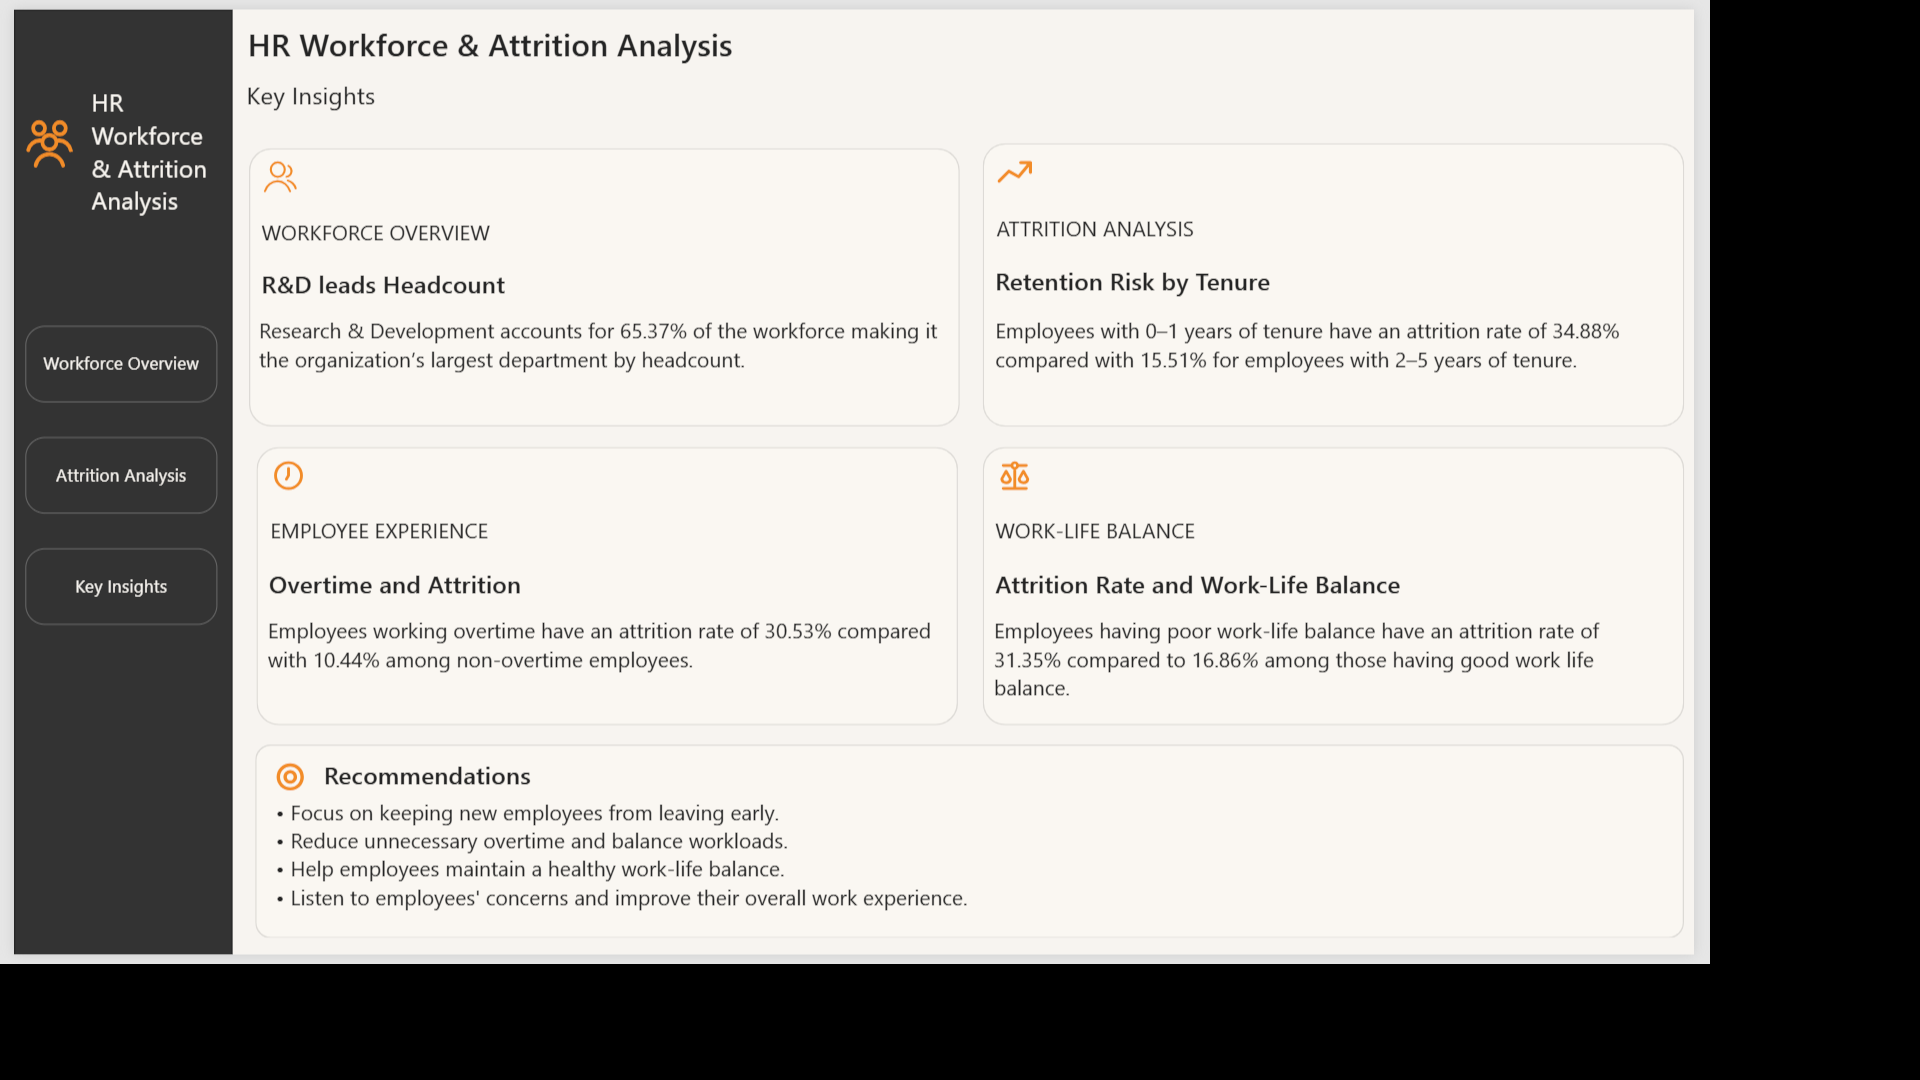

The page's visual inventory and layout, read from the dashboard file:
{"tool":"powerbi","page":{"name":"Key Insights","canvas":[1280,720],"ordinal":2},"visuals":[{"type":"shape","box":[0,0,166.6,1079.9],"z":0,"group":"g1"},{"type":"textbox","box":[177.8,10,388.9,40],"z":0},{"type":"shape","box":[738.5,102,534.5,216],"z":0,"group":"g2"},{"type":"shape","box":[178.5,106,541.5,212],"z":0,"group":"g3"},{"type":"shape","box":[185,333,534.5,212],"z":0,"group":"g4"},{"type":"shape","box":[738.5,333,534.5,212],"z":0,"group":"g5"},{"type":"textbox","box":[177.3,52.3,207,29.7],"z":1000},{"type":"textbox","box":[59,58,96.3,102.5],"z":1000,"group":"g1"},{"type":"textbox","box":[748.1,155.1,256.4,26],"z":1000,"group":"g2"},{"type":"textbox","box":[188.2,158.1,259.8,25.5],"z":1000,"group":"g3"},{"type":"textbox","box":[747.7,385,324.9,26],"z":1000,"group":"g5"},{"type":"textbox","box":[194.6,385.1,256.4,25.5],"z":1000,"group":"g4"},{"type":"group","id":"g1","title":"Group 1","box":[0,0,166.6,1079.9],"z":2000},{"type":"image","box":[9,72,37,60],"z":2000,"group":"g1"},{"type":"image","box":[738,110.6,48.8,26.6],"z":2000,"group":"g2"},{"type":"image","box":[178,114.4,49.4,26.1],"z":2000,"group":"g3"},{"type":"image","box":[184.5,341.4,48.8,26.1],"z":2000,"group":"g4"},{"type":"image","box":[738,341.4,48.8,26.1],"z":2000,"group":"g5"},{"type":"group","id":"g2","title":"Group 2","box":[738,102,535,216],"z":3000},{"type":"textbox","box":[186.8,233.4,521.2,60],"z":3000,"group":"g3"},{"type":"textbox","box":[747.7,233.4,513.3,71.3],"z":3000,"group":"g2"},{"type":"actionButton","box":[9,241,146.6,58.4],"z":3000,"group":"g1"},{"type":"textbox","box":[193.2,462,514.4,63],"z":3000,"group":"g4"},{"type":"textbox","box":[746.7,462,514.4,66],"z":3000,"group":"g5"},{"type":"textbox","box":[747.8,194.4,247,31.9],"z":4000,"group":"g2"},{"type":"textbox","box":[188.2,196.6,216.2,31.3],"z":4000,"group":"g3"},{"type":"actionButton","box":[9,325.5,146.6,58.4],"z":4000,"group":"g1"},{"type":"textbox","box":[194.2,424,222,31],"z":4000,"group":"g4"},{"type":"textbox","box":[747.7,424,350.9,31],"z":4000,"group":"g5"},{"type":"shape","box":[183.5,559.6,1088.5,147.6],"z":4000,"group":"g6"},{"type":"group","id":"g3","title":"Group 2","box":[178,106,542,212],"z":5000},{"type":"actionButton","box":[9,410,146.6,58.4],"z":5000,"group":"g1"},{"type":"image","box":[327,462,45,26.1],"z":6000},{"type":"image","box":[190.6,574.1,40.4,20.9],"z":7000,"group":"g6"},{"type":"group","id":"g4","title":"Group 2","box":[184.5,333,535,212],"z":8000},{"type":"group","id":"g5","title":"Group 2","box":[738,333,535,212],"z":9000},{"type":"textbox","box":[186.1,599.9,619.8,93.3],"z":10000,"group":"g6"},{"type":"textbox","box":[235.5,570,186.9,35.9],"z":11000,"group":"g6"},{"type":"group","id":"g6","title":"Group 3","box":[183.5,559.6,1088.5,147.6],"z":11001}]}

Visuals, with their boxes on the page's 1280x720 design canvas (x1, y1, x2, y2). These are canvas units, not pixel positions in the 1920x1080 screenshot, which may show the page scaled, cropped or inside an application window:
shape: (left=0, top=0, right=167, bottom=1080)
textbox: (left=178, top=10, right=567, bottom=50)
shape: (left=738, top=102, right=1273, bottom=318)
shape: (left=178, top=106, right=720, bottom=318)
shape: (left=185, top=333, right=720, bottom=545)
shape: (left=738, top=333, right=1273, bottom=545)
textbox: (left=177, top=52, right=384, bottom=82)
textbox: (left=59, top=58, right=155, bottom=160)
textbox: (left=748, top=155, right=1004, bottom=181)
textbox: (left=188, top=158, right=448, bottom=184)
textbox: (left=748, top=385, right=1073, bottom=411)
textbox: (left=195, top=385, right=451, bottom=411)
"Group 1" group: (left=0, top=0, right=167, bottom=1080)
image: (left=9, top=72, right=46, bottom=132)
image: (left=738, top=111, right=787, bottom=137)
image: (left=178, top=114, right=227, bottom=140)
image: (left=184, top=341, right=233, bottom=368)
image: (left=738, top=341, right=787, bottom=368)
"Group 2" group: (left=738, top=102, right=1273, bottom=318)
textbox: (left=187, top=233, right=708, bottom=293)
textbox: (left=748, top=233, right=1261, bottom=305)
actionButton: (left=9, top=241, right=156, bottom=299)
textbox: (left=193, top=462, right=708, bottom=525)
textbox: (left=747, top=462, right=1261, bottom=528)
textbox: (left=748, top=194, right=995, bottom=226)
textbox: (left=188, top=197, right=404, bottom=228)
actionButton: (left=9, top=326, right=156, bottom=384)
textbox: (left=194, top=424, right=416, bottom=455)
textbox: (left=748, top=424, right=1099, bottom=455)
shape: (left=184, top=560, right=1272, bottom=707)
"Group 2" group: (left=178, top=106, right=720, bottom=318)
actionButton: (left=9, top=410, right=156, bottom=468)
image: (left=327, top=462, right=372, bottom=488)
image: (left=191, top=574, right=231, bottom=595)
"Group 2" group: (left=184, top=333, right=720, bottom=545)
"Group 2" group: (left=738, top=333, right=1273, bottom=545)
textbox: (left=186, top=600, right=806, bottom=693)
textbox: (left=236, top=570, right=422, bottom=606)
"Group 3" group: (left=184, top=560, right=1272, bottom=707)
